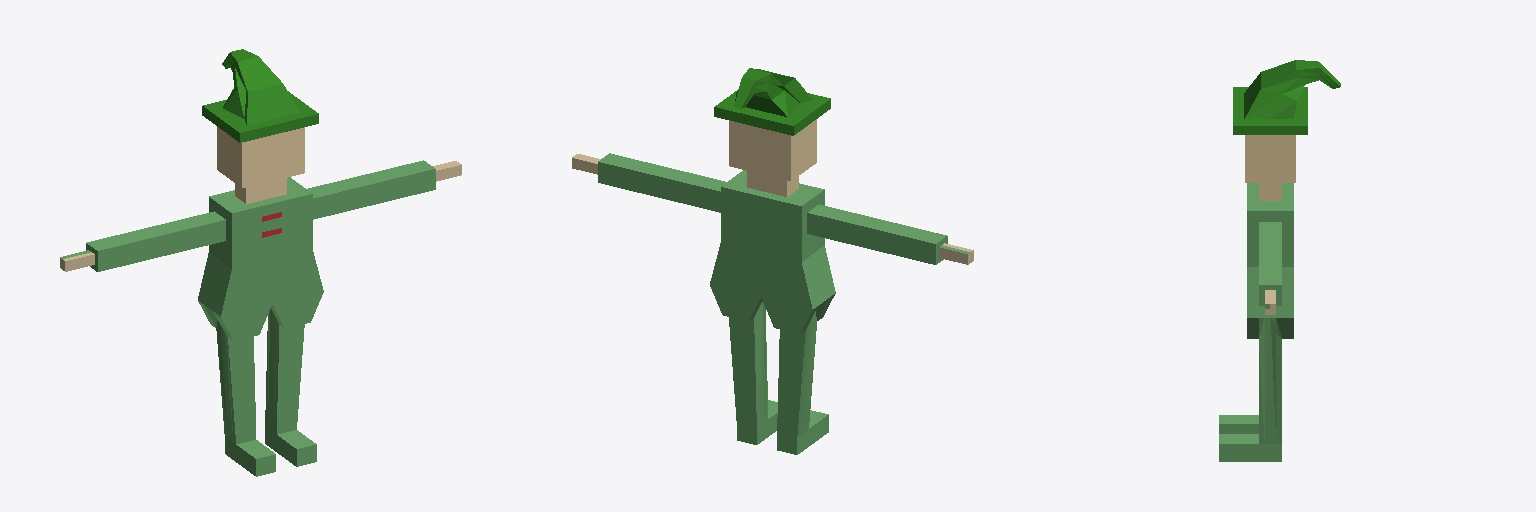
File: newscene.obj
3 renders of one model, left to right at view 1: azimuth 30°, elevation 25°; view 2: azimuth 150°, elevation 25°; view 3: azimuth 270°, elevation 25°, orthographic.
Visible parts, largest first — view 1: cube128, cube129; view 2: cube128, cube129; view 3: cube128, cube129.
Part boxes in pixels (x1,y1,x2,y2): cube128: (60,127,461,476); cube129: (202,49,318,142); cube128: (572,119,973,454); cube129: (714,68,830,135); cube128: (1219,135,1295,461); cube129: (1233,60,1340,134).
Bounding box in the file's own units: 1254 × 1156 × 334.